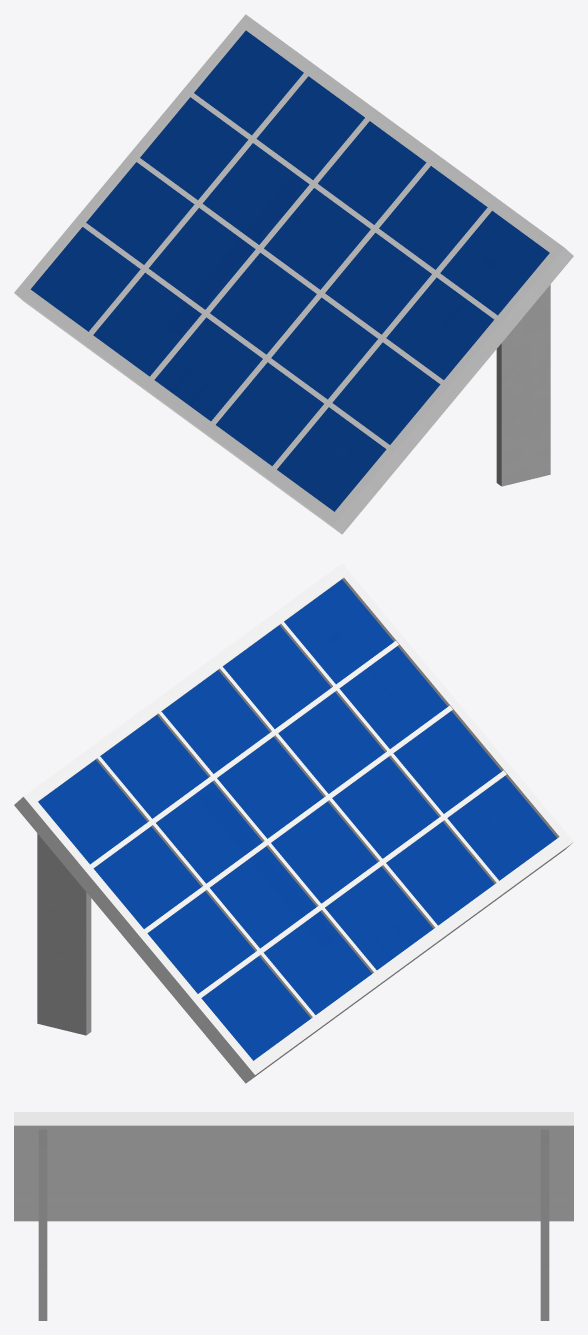
The model's file is Solar pannel.FBX.
3 views of the same model, one above another, from view 1: azimuth 30°, elevation 25°; view 2: azimuth 150°, elevation 25°; view 3: azimuth 270°, elevation 25° (orthographic). The views are drawn at different scales.
Visible parts, largest first — view 1: Solar_Panel; view 2: Solar_Panel; view 3: Solar_Panel.
Part boxes in pixels (left/top/right/bottom): Solar_Panel: left=14, top=14, right=573, bottom=534; Solar_Panel: left=14, top=563, right=573, bottom=1083; Solar_Panel: left=14, top=1112, right=573, bottom=1320.
Size of the model in its own units: 114 by 108 by 262.
